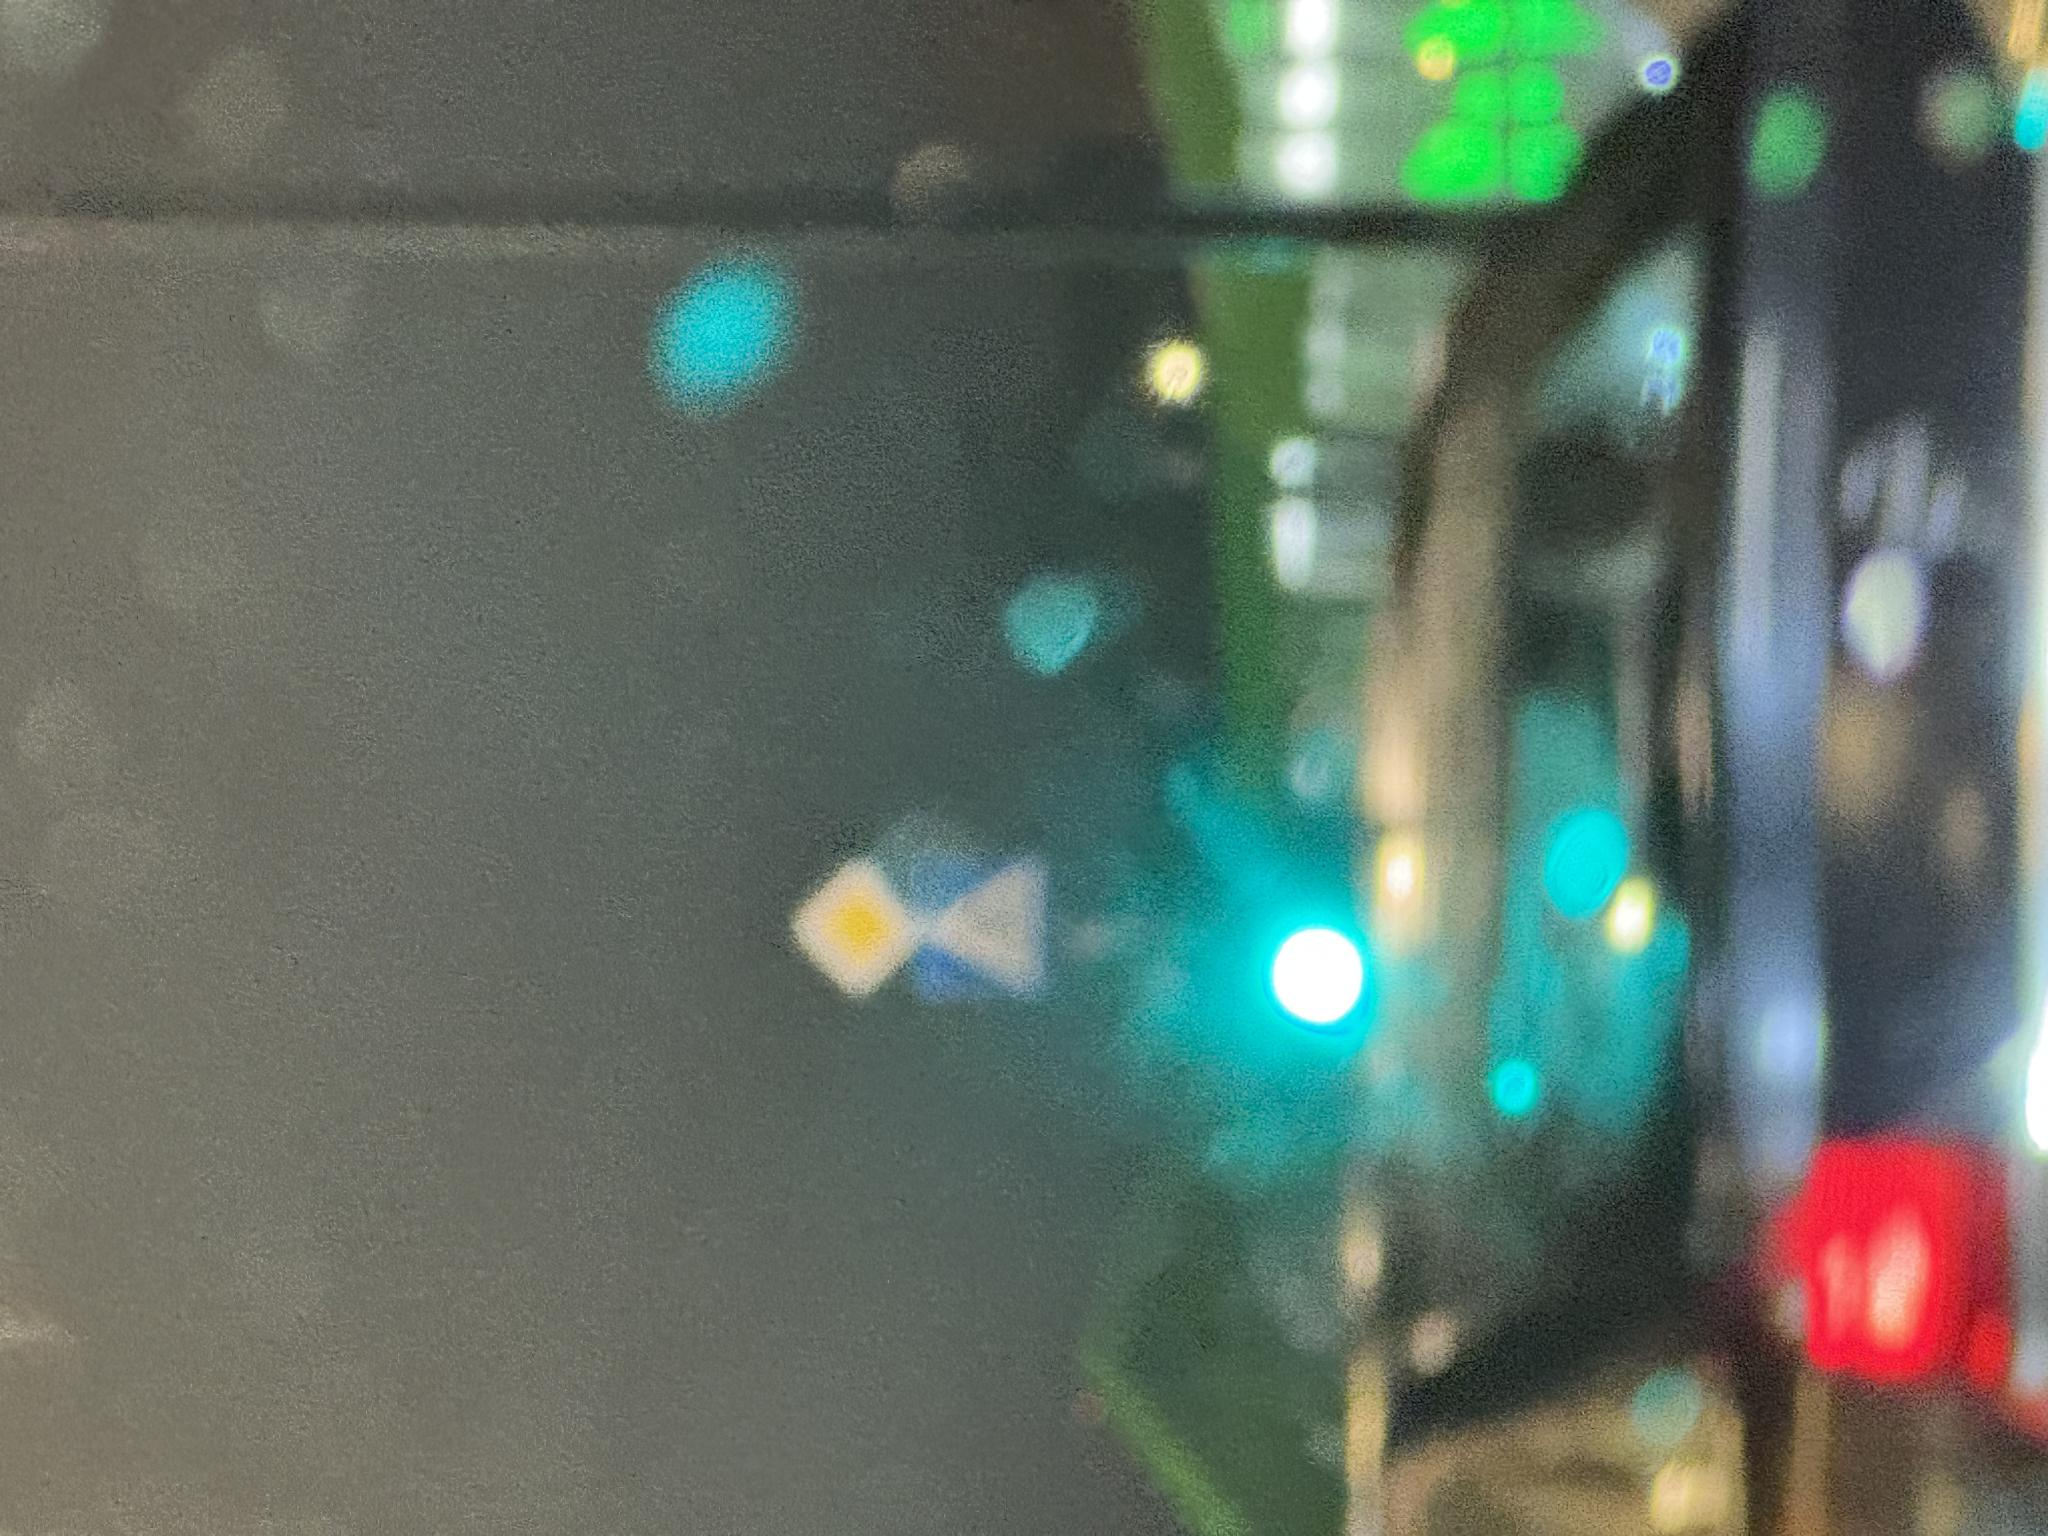information: (527, 913, 693, 1054), (534, 791, 684, 923)
